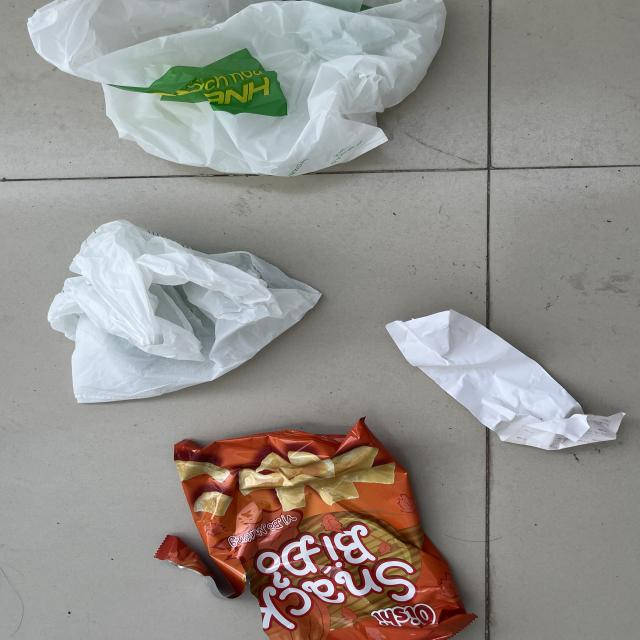bag: (26, 0, 448, 177), (47, 219, 322, 404)
paper: (386, 308, 626, 451)
snack package: (154, 416, 478, 640)
